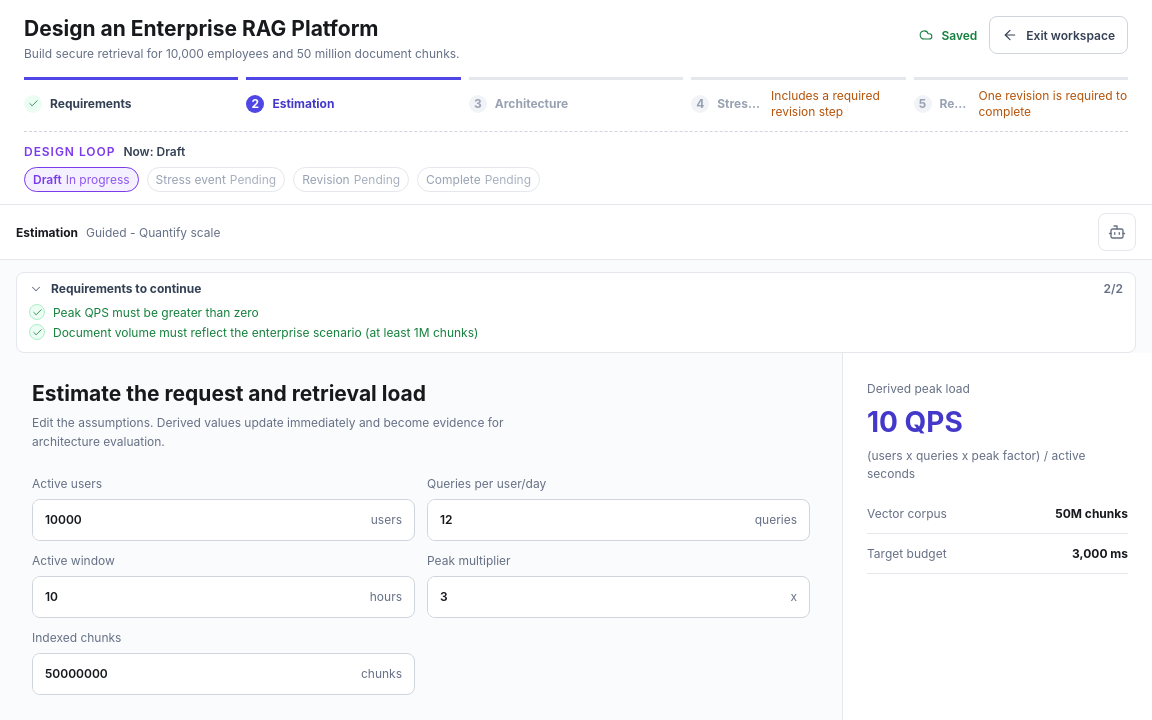
Scenario: MissionWorkspace estimation input guarding › marks the estimation fields with an error class after a failed submit
Step 1. Replace the text in the number field labelled "Indexed chunks chunks" with "100" → (191, 674), box [33,654,349,694]
(page scrolled)
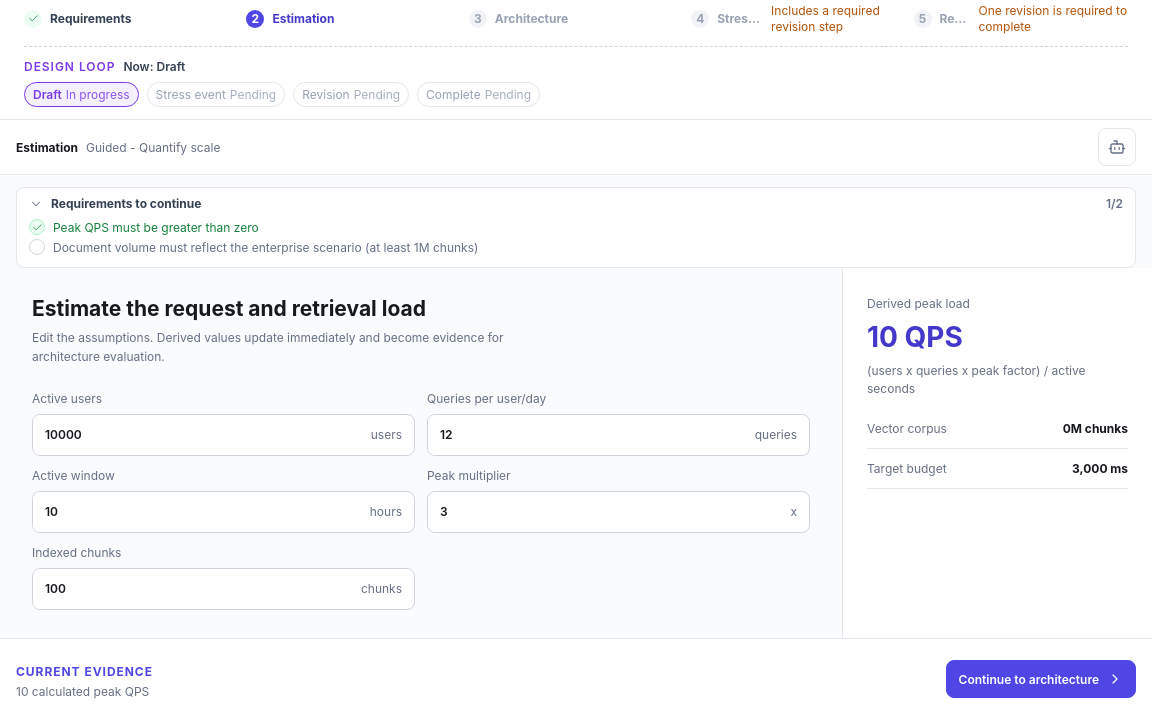
Step 2. Click the button "Continue to architecture" → (1041, 679), box [946,660,1136,698]
(page scrolled)
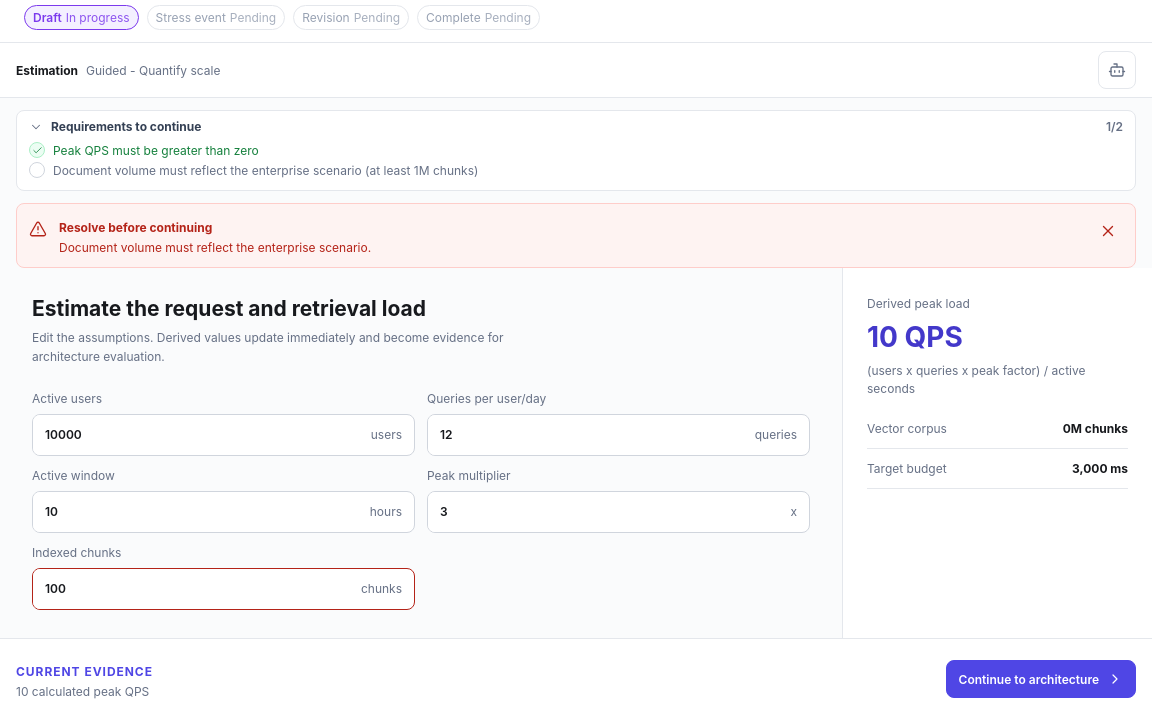
Result: the message shows "Document volume must reflect the enterprise scenario" at [59,240,371,255]
